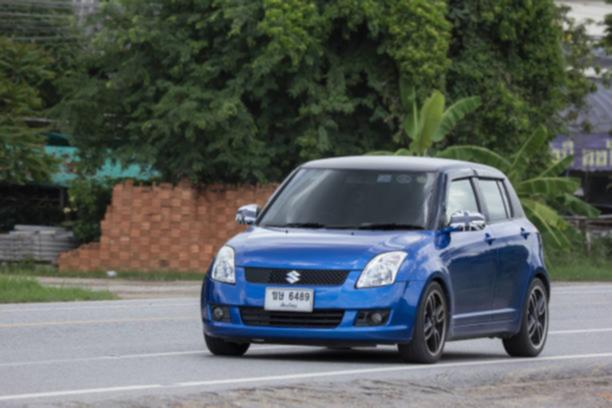suzuki: (278, 267, 308, 290)
